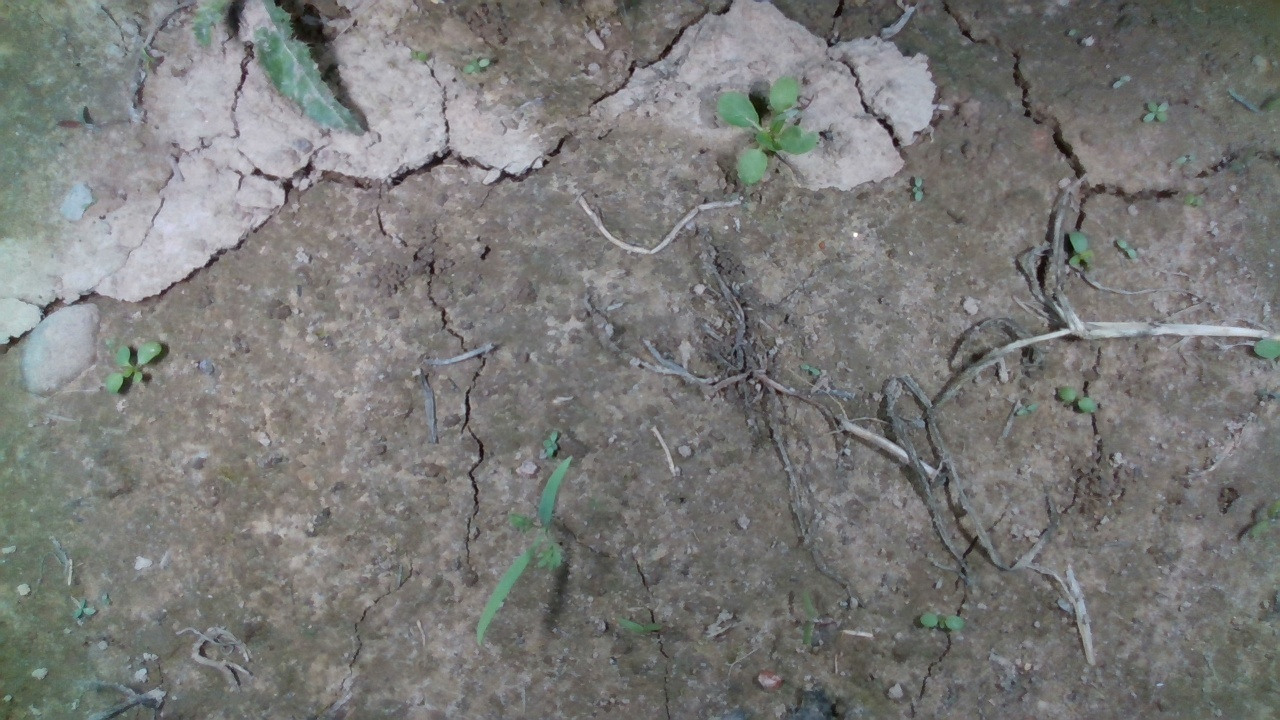weed: (103, 339, 166, 393), (1057, 378, 1105, 429), (915, 601, 970, 639), (1061, 222, 1098, 277), (1108, 228, 1140, 268), (1142, 95, 1169, 134), (907, 170, 935, 204), (541, 429, 560, 456)
